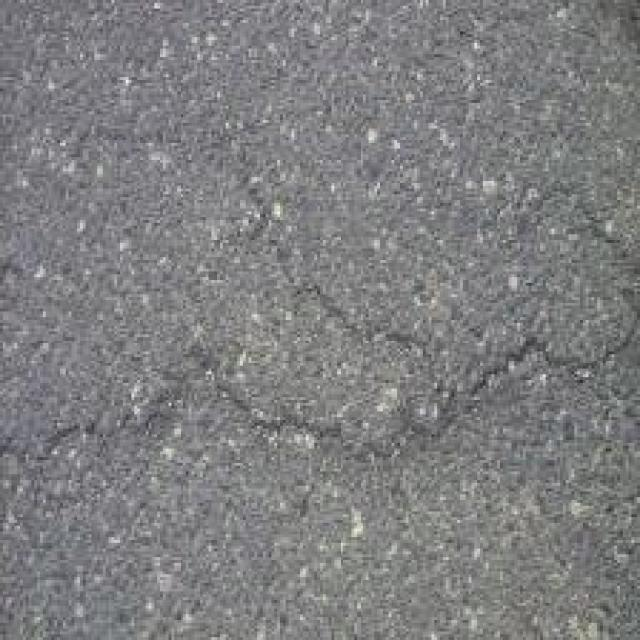crack: (24, 130, 640, 520)
